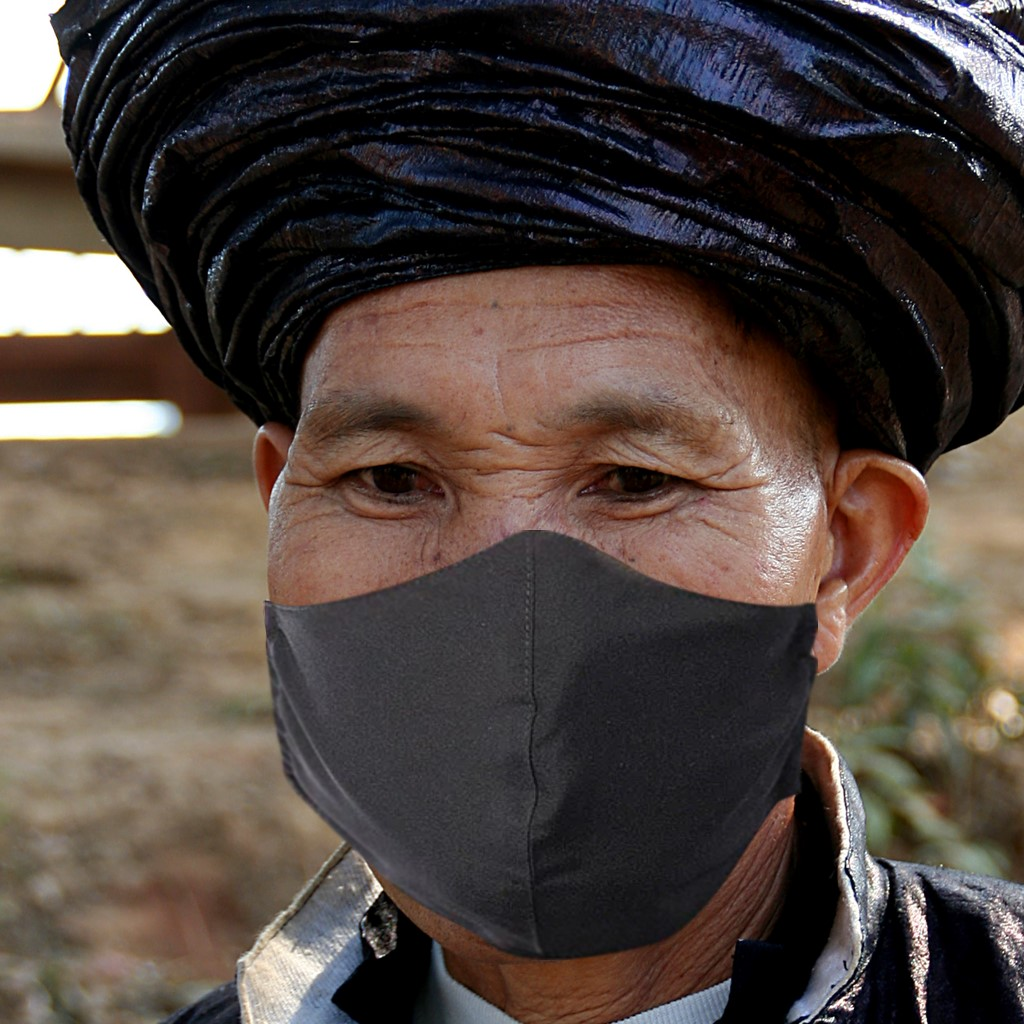con_mascara: (271, 180, 931, 955)
